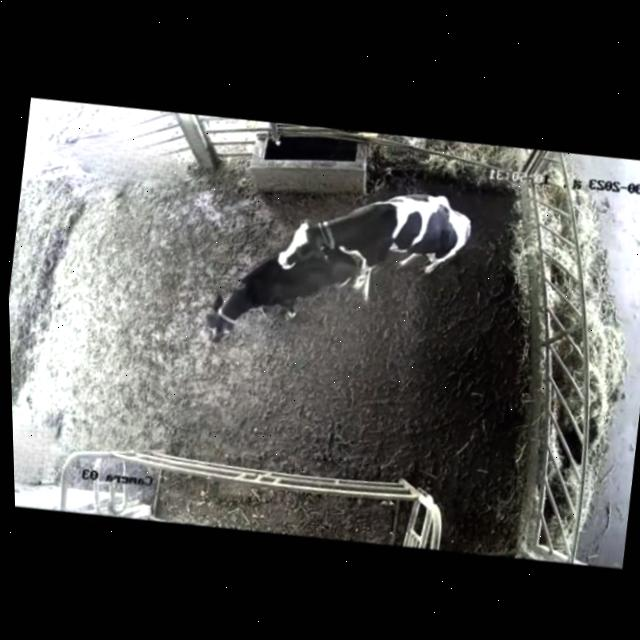ride: (270, 167, 487, 312)
stand: (184, 208, 379, 372)
